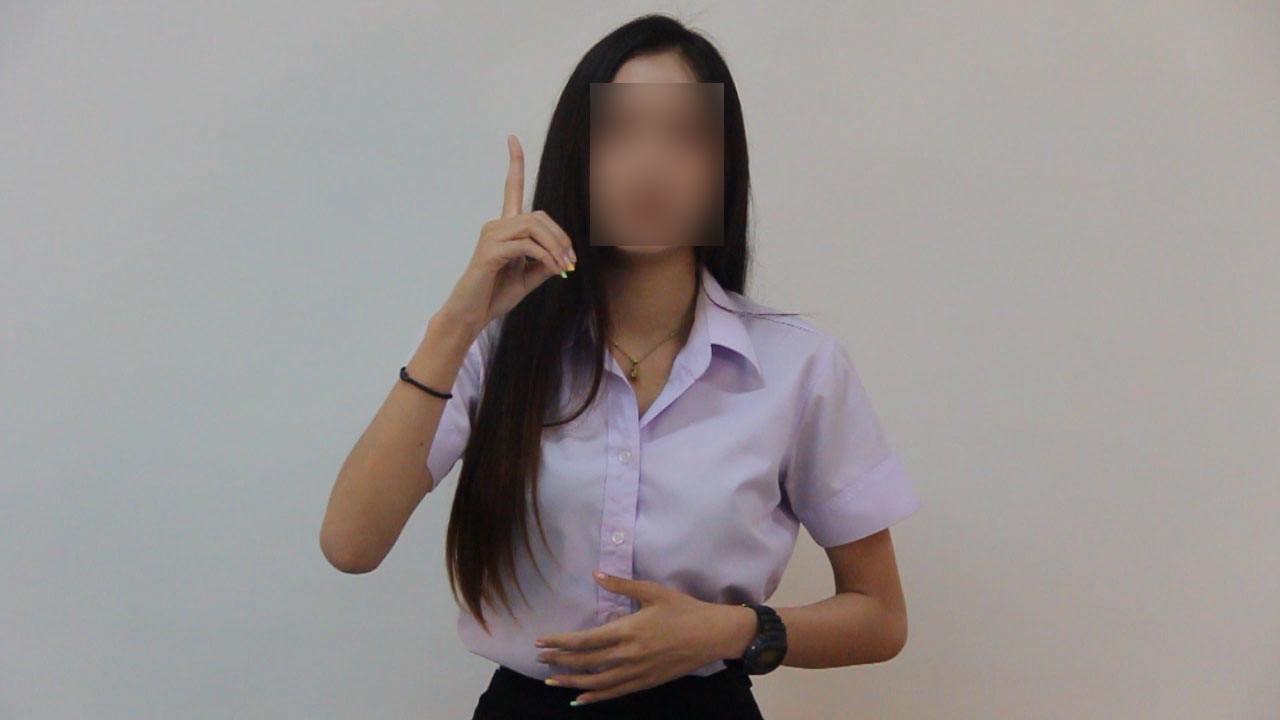dor: (440, 125, 581, 331)
